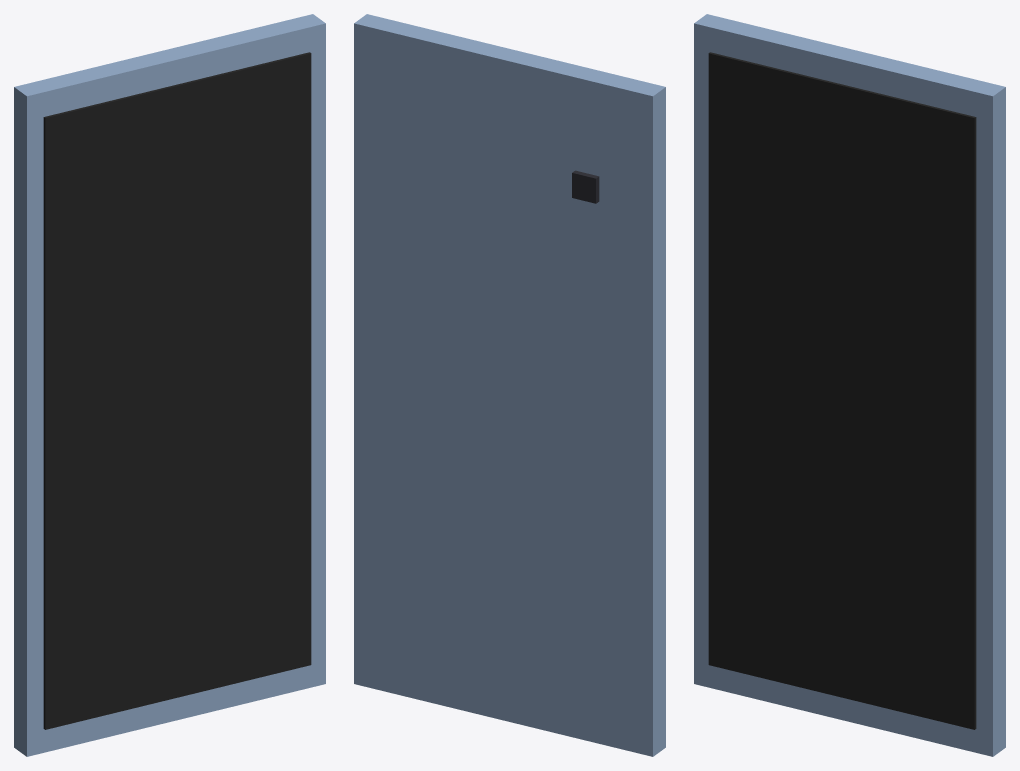
The model's file is iphone-15.glb.
3 views of the same model, side by side, from view 1: azimuth 30°, elevation 25°; view 2: azimuth 150°, elevation 25°; view 3: azimuth 330°, elevation 25° (orthographic).
Visible parts, largest first — view 1: tela, corpo; view 2: corpo, lente-0; view 3: tela, corpo.
Boxes of the visible parts, box(x1,y1,x2,y2) form: tela: box(43, 52, 311, 729); corpo: box(14, 14, 325, 756); corpo: box(354, 14, 665, 756); lente-0: box(572, 170, 599, 203); tela: box(708, 52, 976, 729); corpo: box(694, 14, 1005, 756).
Size of the model in its own units: 0.8714 by 1.84 by 0.091.
